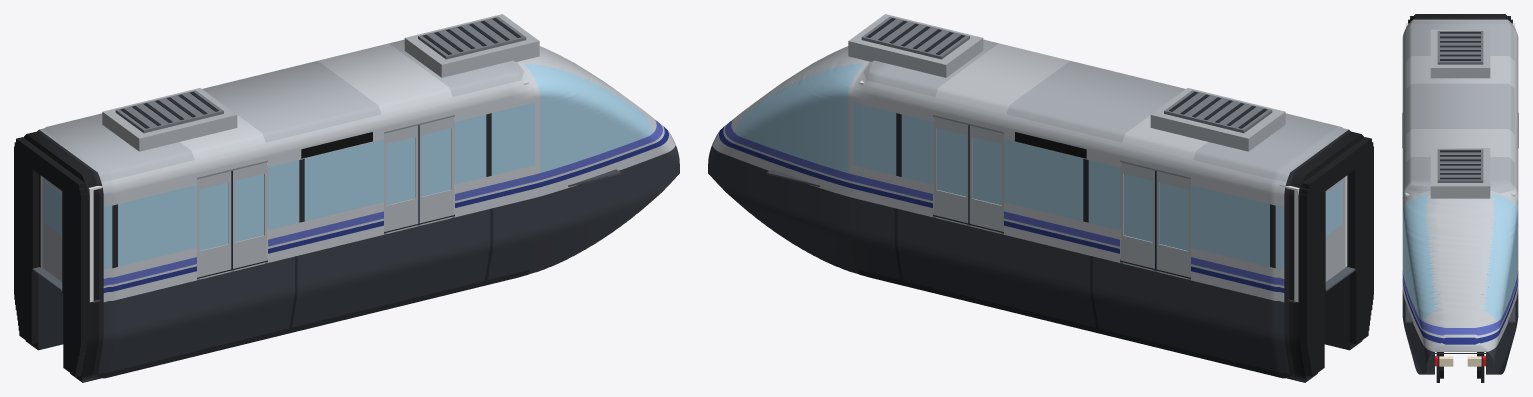
The model's file is innovia_front.obj.
The picture shows the model from 3 angles, left to right: view 1: azimuth 30°, elevation 25°; view 2: azimuth 150°, elevation 25°; view 3: azimuth 270°, elevation 25°; orthographic projection. The views are drawn at different scales.
Visible parts, largest first — view 1: SHELL, SHELL_roof, SHELL_diaphragm, EXTERNAL_DOOR_3_CG_DR1_TOGGLE_TL_-0.74_X, EXTERNAL_DOOR_9_CG_DR2_TOGGLE_TL_-0.74_X, EXTERNAL_DOOR_10_CG_DR2_TOGGLE_TL_0.74_X, EXTERNAL_DOOR_4_CG_DR1_TOGGLE_TL_0.74_X, CONNECTING_DOOR_1_CG_CR_TOGGLE_TL_0.98_Z, SHELL_end, SHELL_sign; view 2: SHELL, SHELL_roof, SHELL_diaphragm, EXTERNAL_DOOR_6_CG_DL1_TOGGLE_TL_-0.74_X, EXTERNAL_DOOR_12_CG_DL2_TOGGLE_TL_-0.74_X, EXTERNAL_DOOR_13_CG_DL2_TOGGLE_TL_0.74_X, EXTERNAL_DOOR_7_CG_DL1_TOGGLE_TL_0.74_X, CONNECTING_DOOR_1_CG_CR_TOGGLE_TL_0.98_Z, SHELL_end, SHELL_sign; view 3: SHELL, SHELL_roof, BOGEY_FRONT, HEADLIGHT_1, SHELL_floor.
Part boxes in pixels (left/top/right/bottom): SHELL: left=23, top=39, right=679, bottom=382; SHELL_roof: left=102, top=14, right=539, bottom=151; SHELL_diaphragm: left=14, top=137, right=87, bottom=376; EXTERNAL_DOOR_3_CG_DR1_TOGGLE_TL_-0.74_X: left=197, top=170, right=232, bottom=277; EXTERNAL_DOOR_9_CG_DR2_TOGGLE_TL_-0.74_X: left=384, top=125, right=419, bottom=231; EXTERNAL_DOOR_10_CG_DR2_TOGGLE_TL_0.74_X: left=419, top=116, right=454, bottom=223; EXTERNAL_DOOR_4_CG_DR1_TOGGLE_TL_0.74_X: left=233, top=162, right=267, bottom=268; CONNECTING_DOOR_1_CG_CR_TOGGLE_TL_0.98_Z: left=42, top=177, right=62, bottom=281; SHELL_end: left=40, top=175, right=93, bottom=302; SHELL_sign: left=301, top=132, right=372, bottom=158; SHELL: left=708, top=39, right=1364, bottom=382; SHELL_roof: left=848, top=14, right=1285, bottom=151; SHELL_diaphragm: left=1300, top=137, right=1373, bottom=376; EXTERNAL_DOOR_6_CG_DL1_TOGGLE_TL_-0.74_X: left=1155, top=170, right=1190, bottom=277; EXTERNAL_DOOR_12_CG_DL2_TOGGLE_TL_-0.74_X: left=968, top=125, right=1003, bottom=231; EXTERNAL_DOOR_13_CG_DL2_TOGGLE_TL_0.74_X: left=933, top=116, right=968, bottom=223; EXTERNAL_DOOR_7_CG_DL1_TOGGLE_TL_0.74_X: left=1120, top=162, right=1154, bottom=268; CONNECTING_DOOR_1_CG_CR_TOGGLE_TL_0.98_Z: left=1325, top=177, right=1345, bottom=281; SHELL_end: left=1294, top=175, right=1347, bottom=302; SHELL_sign: left=1015, top=132, right=1086, bottom=158; SHELL: left=1402, top=14, right=1518, bottom=374; SHELL_roof: left=1430, top=29, right=1490, bottom=198; BOGEY_FRONT: left=1436, top=352, right=1484, bottom=382; HEADLIGHT_1: left=1439, top=356, right=1481, bottom=366; SHELL_floor: left=1405, top=301, right=1515, bottom=322.
Bounding box in the file's own units: 13.76 × 4.81 × 2.82.
Materials: 1 (1 with a texture image).
